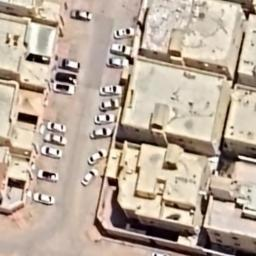SUV: (110, 43, 132, 55), (70, 10, 92, 21)
sedan: (81, 168, 99, 186), (88, 149, 108, 165), (58, 58, 80, 72), (52, 82, 74, 96), (40, 146, 62, 160), (44, 134, 67, 146), (38, 169, 59, 182), (33, 192, 55, 204), (90, 127, 112, 139), (100, 84, 122, 96), (56, 72, 76, 84), (99, 99, 119, 111), (114, 27, 134, 39), (47, 122, 67, 132), (94, 114, 114, 124), (107, 58, 122, 68)
